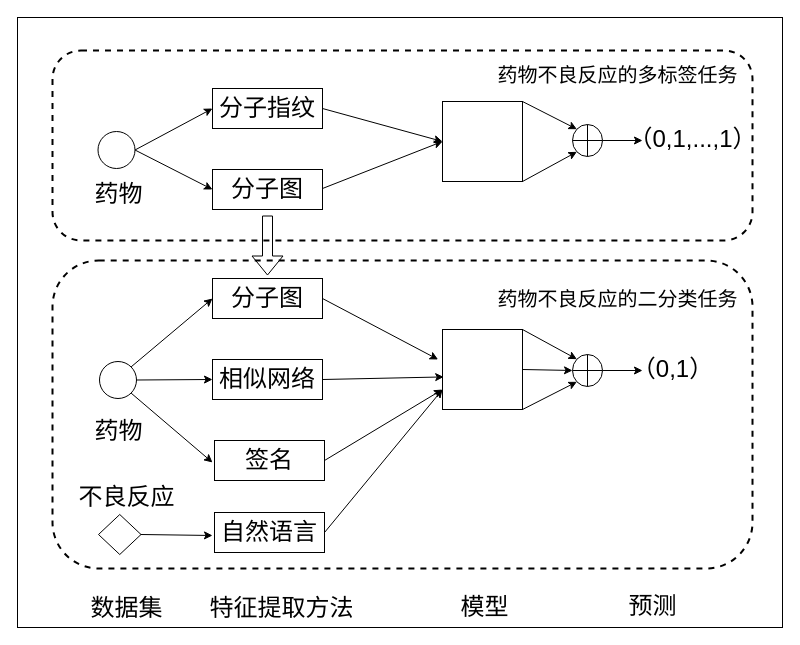
Some shapes in this 800 by 645 pixel diagram are drawn without their labels. The centre of each missing label's shape, as x and y in pixels:
"DNN" goes at (482,141).
"GCN" goes at (482,369).
